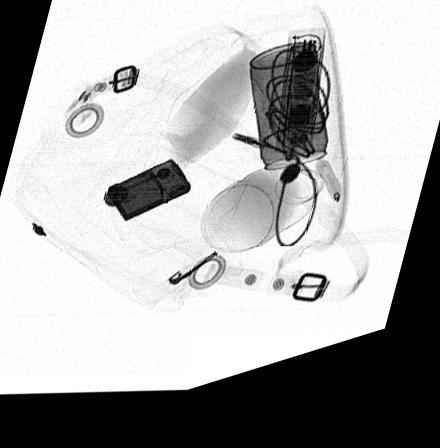Lighter: (106, 168, 191, 229)
